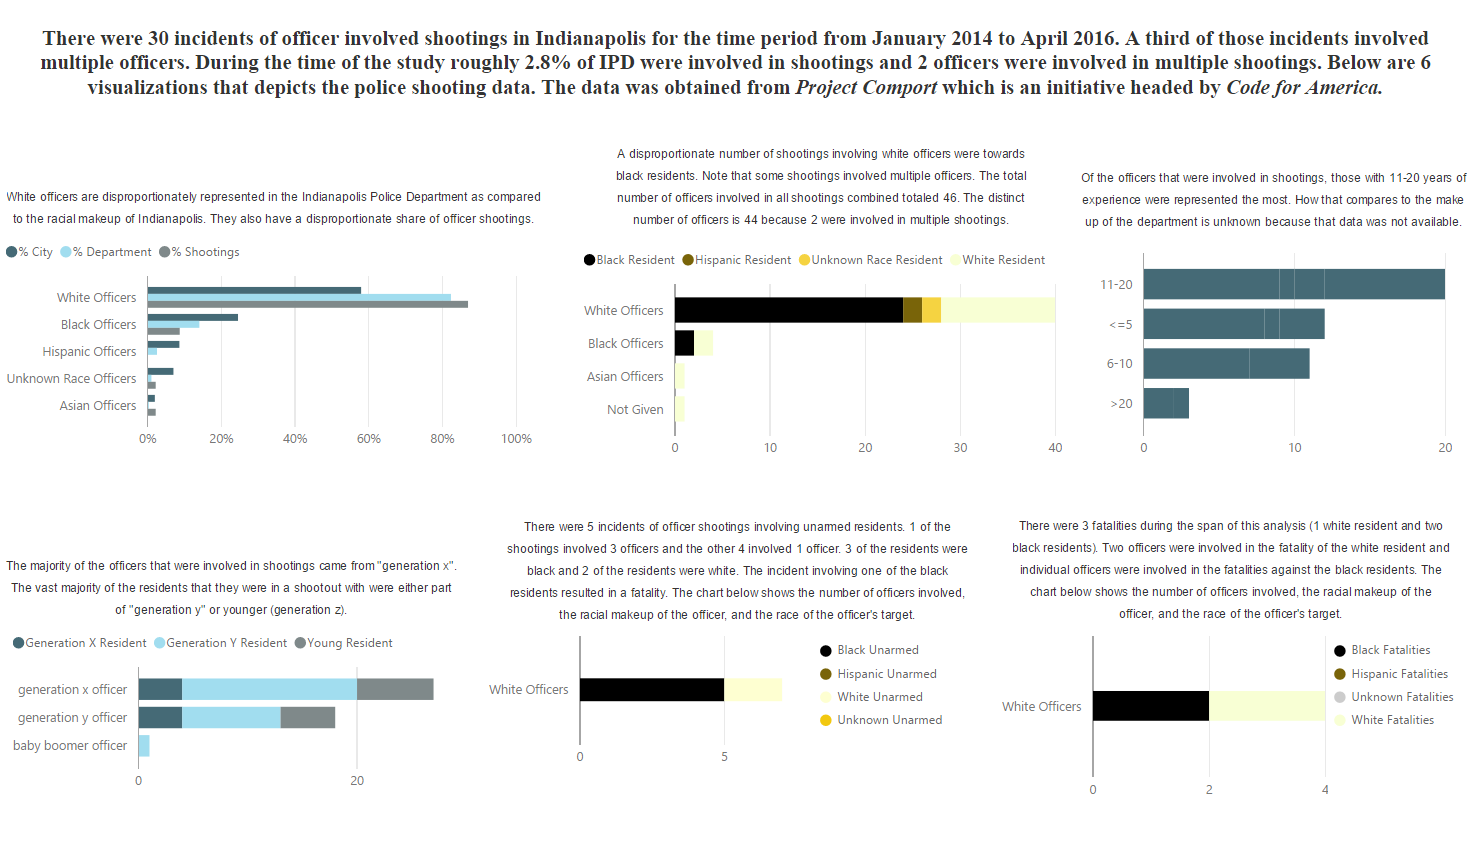

The dashboard page shown, as its layout file describes it:
{"tool":"powerbi","page":{"name":"Officer Involved Shootings","canvas":[1280,720],"ordinal":0},"visuals":[{"type":"clusteredBarChart","fields":{"Category":["Demographic Information.Race"],"Y":["Demographic Information.% Population","Demographic Information.% Department","Demographic Information.% Shootings"]},"box":[0.9,180.9,466.3,198.7],"z":1},{"type":"barChart","fields":{"Y":["Officer Involved Shootings.Black Gunshot Victims","Officer Involved Shootings.Hispanic Gunshot Victims","Officer Involved Shootings.Unknown Gunshot Victims","Officer Involved Shootings.White Gunshot Victims"],"Category":["Officer Involved Shootings.Officer Race"]},"box":[501.8,188,424.4,199],"z":2},{"type":"barChart","fields":{"Category":["Officer Involved Shootings.Officer Generation"],"Y":["Officer Involved Shootings.Generation X Resident","Officer Involved Shootings.Generation Y Resident","Officer Involved Shootings.Young Resident"]},"box":[6.9,520,409,156],"z":3},{"type":"barChart","fields":{"Category":["Officer Involved Shootings.Officer Years of Service Range"],"Y":["Officer Involved Shootings.Black Resident","Officer Involved Shootings.Hispanic Resident","Officer Involved Shootings.Unknown Race Resident","Officer Involved Shootings.White Resident"]},"box":[948.1,188.1,316.3,199.3],"z":4},{"type":"textbox","box":[0,0,1277.4,79.7],"z":5},{"type":"barChart","fields":{"Category":["Officer Involved Shootings.Officer Race"],"Y":["Officer Involved Shootings.Black Unarmed Resident","Officer Involved Shootings.Hispanic Unarmed Resident","Officer Involved Shootings.White Unarmed Resident","Officer Involved Shootings.Race Unknown Unarmed Resident"]},"box":[419.7,520,414.1,135.2],"z":6},{"type":"barChart","fields":{"Category":["Officer Involved Shootings.Officer Race"],"Y":["Officer Involved Shootings.Black Fatalities","Officer Involved Shootings.Hispanic Fatalities","Officer Involved Shootings.Unknown Fatalities","Officer Involved Shootings.White Fatalities"]},"box":[864,519.9,412.5,163.5],"z":7},{"type":"textbox","box":[519.1,98.8,387.4,87.5],"z":8},{"type":"textbox","box":[931.6,119.6,346.6,83.2],"z":8},{"type":"textbox","box":[1.7,136.1,473.2,56.3],"z":8},{"type":"textbox","box":[873.6,421.2,389.1,104.9],"z":8},{"type":"textbox","box":[435,422,410.8,105.7],"z":8},{"type":"textbox","box":[0,455.8,403.8,74.5],"z":8}]}

Visuals, with their boxes in screenshot pixels (x1, y1, x2, y2), scaled from the page's 1280x720 canvas onto the 1473x848 screenshot:
clusteredBarChart - Demographic Information.Race x Demographic Information.% Population: 1:213:538:447
barChart - Officer Involved Shootings.Black Gunshot Victims x Officer Involved Shootings.Hispanic Gunshot Victims: 577:221:1066:456
barChart - Officer Involved Shootings.Officer Generation x Officer Involved Shootings.Generation X Resident: 8:612:479:796
barChart - Officer Involved Shootings.Officer Years of Service Range x Officer Involved Shootings.Black Resident: 1091:222:1455:456
textbox: 0:0:1470:94
barChart - Officer Involved Shootings.Officer Race x Officer Involved Shootings.Black Unarmed Resident: 483:612:960:772
barChart - Officer Involved Shootings.Officer Race x Officer Involved Shootings.Black Fatalities: 994:612:1469:805
textbox: 597:116:1043:219
textbox: 1072:141:1471:239
textbox: 2:160:547:227
textbox: 1005:496:1453:620
textbox: 501:497:973:622
textbox: 0:537:465:625
